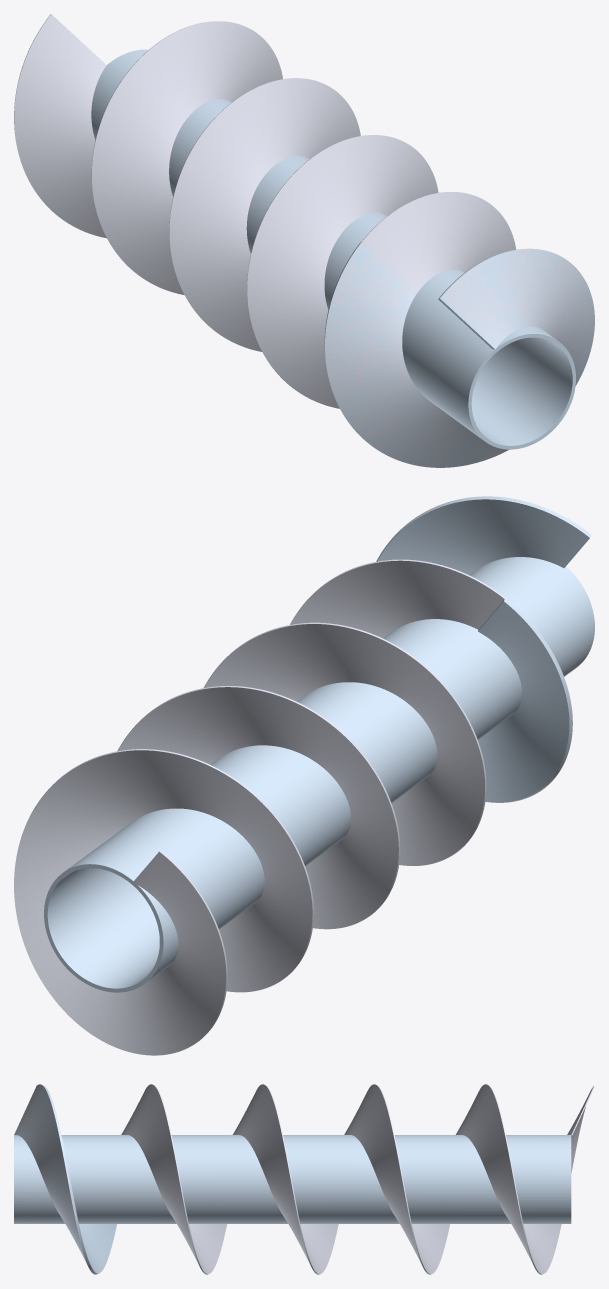
The model's file is helex.glb.
3 renders of one model, top to bottom at view 1: azimuth 30°, elevation 25°; view 2: azimuth 150°, elevation 25°; view 3: azimuth 270°, elevation 25°, orthographic. The views are drawn at different scales.
Visible parts, largest first — view 1: Node1, Node2; view 2: Node1, Node2; view 3: Node2, Node1.
Part boxes in pixels (x1,y1,x2,y2): Node1: (14,14,594,467); Node2: (91,49,594,467); Node1: (14,496,591,1055); Node2: (44,496,594,992); Node2: (14,1084,571,1274); Node1: (14,1084,594,1274).
Bounding box in the file's own units: 341 × 341 × 1042.
